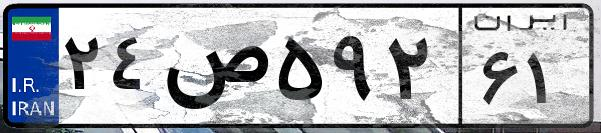1: (525, 38, 570, 115)
2: (385, 28, 445, 110), (57, 26, 110, 100)
4: (110, 28, 158, 98)
5: (270, 28, 330, 110)
6: (475, 38, 525, 113)
9: (330, 28, 385, 110)
ص: (158, 20, 270, 120)
